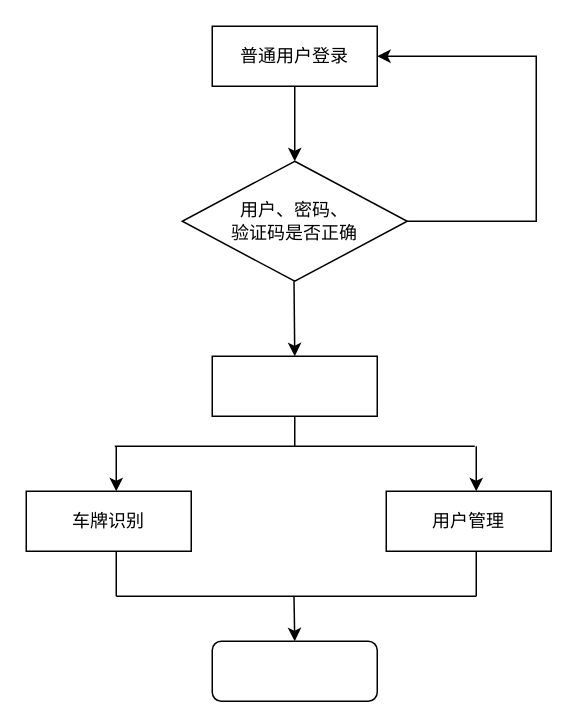
The diagram is 578 pixels wide and 728 high, and some of its shapes have lost their labels. The centre of each missing label's shape, as x and y in pixels:
"用户功能界面" belongs at (x=294, y=385).
"退出登录" belongs at (x=294, y=670).
